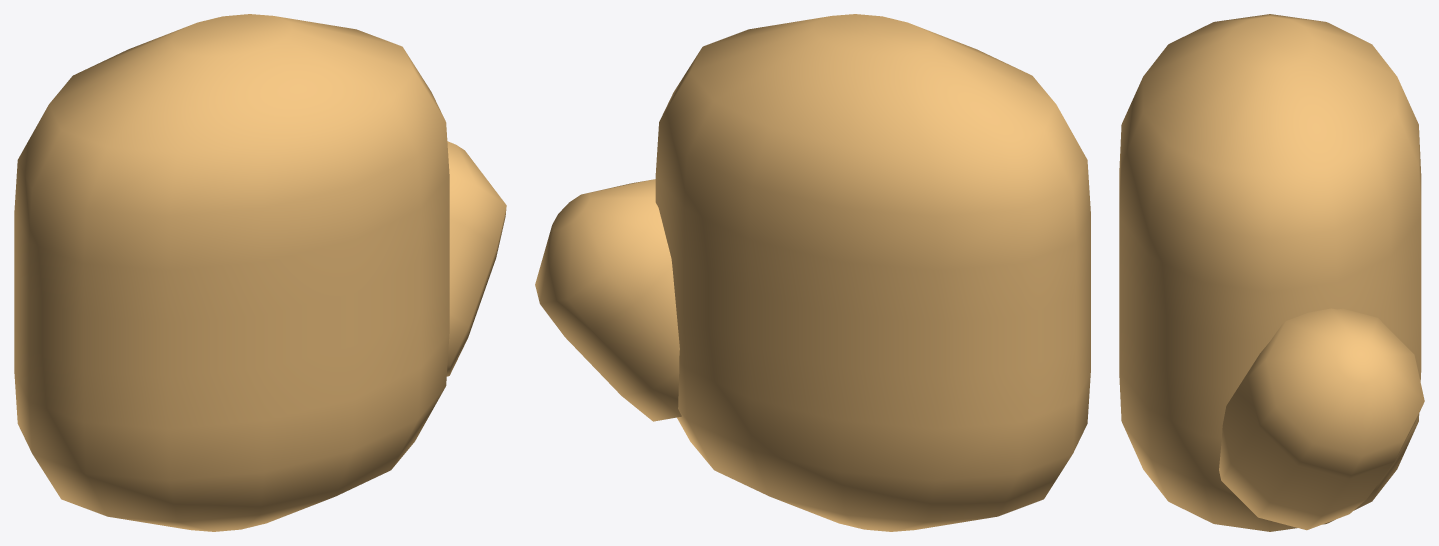
Rendered from hand.glb.
3 views of the same model, side by side, from view 1: azimuth 30°, elevation 25°; view 2: azimuth 150°, elevation 25°; view 3: azimuth 270°, elevation 25° (orthographic). The views are drawn at different scales.
Visible parts, largest first — view 1: hand; view 2: hand; view 3: hand.
Part boxes in pixels (<box>): hand: <box>14,14,506,531</box>; hand: <box>535,14,1090,531</box>; hand: <box>1119,14,1424,531</box>.
Size of the model in its own units: 0.0934 by 0.085 by 0.0513.
